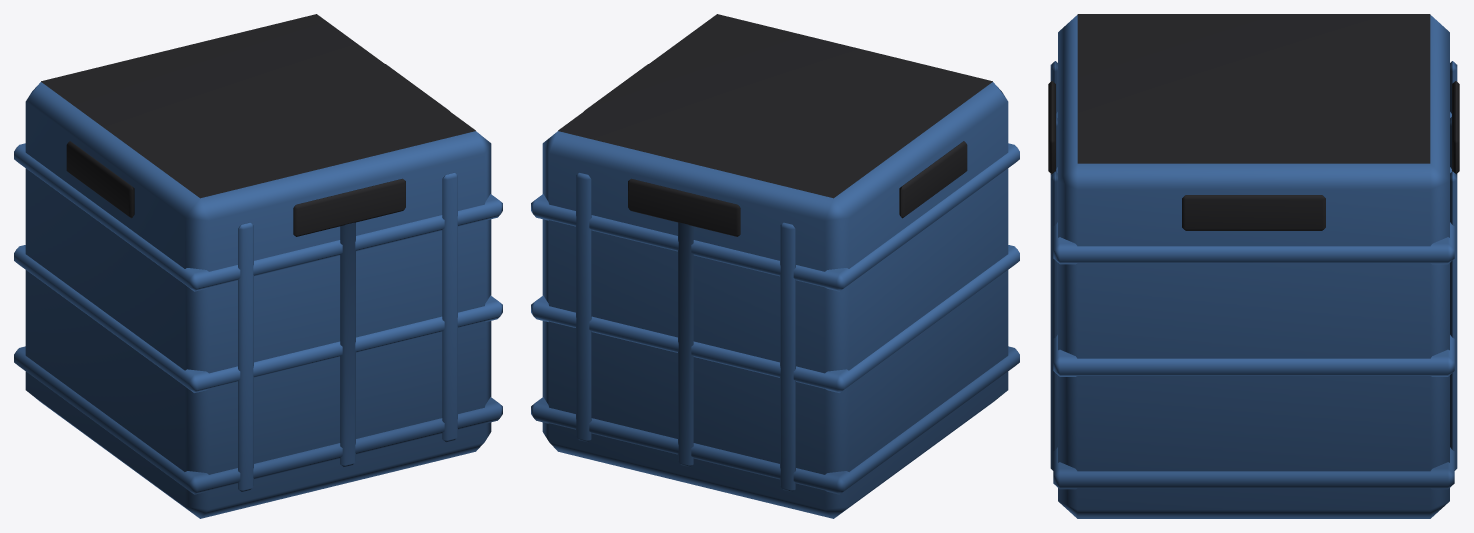
The model's file is CratePlastic.fbx.
3 renders of one model, left to right at view 1: azimuth 30°, elevation 25°; view 2: azimuth 150°, elevation 25°; view 3: azimuth 270°, elevation 25°, orthographic. The views are drawn at different scales.
Parts seen in each view (by area): view 1: CratePlastic; view 2: CratePlastic; view 3: CratePlastic.
Part boxes in pixels (bbox=[...]): CratePlastic: bbox=[14, 14, 502, 518]; CratePlastic: bbox=[531, 14, 1019, 518]; CratePlastic: bbox=[1048, 14, 1459, 518].
Bounding box in the file's own units: 0.63 × 0.601 × 0.63.
